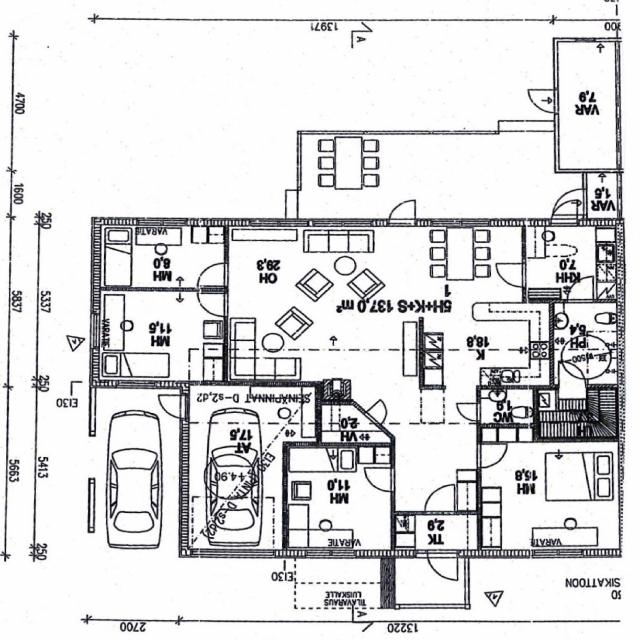door: (363, 398, 396, 428), (428, 550, 457, 583), (425, 484, 455, 515), (554, 188, 588, 214), (551, 195, 578, 226), (389, 195, 415, 226), (364, 468, 396, 492), (476, 444, 508, 468), (559, 361, 586, 389), (154, 396, 188, 418), (495, 263, 526, 287), (196, 263, 228, 286), (196, 294, 228, 316), (568, 276, 594, 303), (528, 90, 558, 112), (456, 403, 482, 421)
